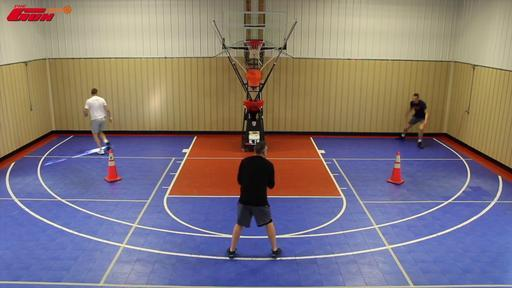human: (226, 142, 282, 260), (82, 88, 112, 153), (396, 94, 430, 148)
rim: (242, 40, 264, 60)
